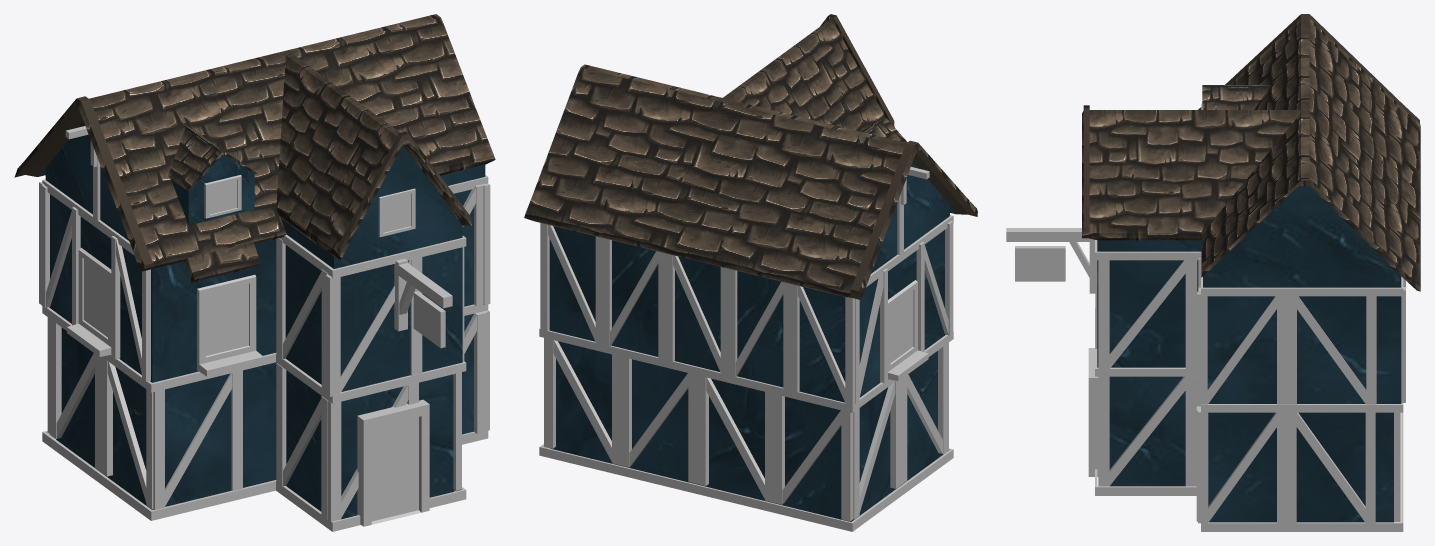
The model's file is casa2.fbx.
The picture shows the model from 3 angles, left to right: view 1: azimuth 30°, elevation 25°; view 2: azimuth 150°, elevation 25°; view 3: azimuth 270°, elevation 25°; orthographic projection. The views are drawn at different scales.
Visible parts, largest first — view 1: Cube, Cube.016, Cube.037, Plane.001, Cube.002, Cube.018, Cube.030, Cube.009, Plane.002, Cube.008, Cube.010, Cube.019 (+11 smaller); view 2: Cube, Cube.016, Cube.027, Cube.028, Cube.025, Cube.026, Cube.011, Cube.010, Cube.015, Cube.014, Plane.002, Cube.012 (+5 smaller); view 3: Cube, Cube.016, Cube.021, Cube.031, Cube.024, Cube.023, Cube.033, Cube.034, Cube.035, Cube.003, Cube.002, Cube.037 (+2 smaller).
Part boxes in pixels (box(x1,y1,x2,y2)): Cube: box(14, 14, 495, 519); Cube.016: box(42, 158, 488, 531); Cube.037: box(357, 399, 429, 526); Plane.001: box(197, 274, 263, 376); Cube.002: box(168, 125, 257, 225); Cube.018: box(153, 370, 242, 509); Cube.030: box(325, 257, 422, 396); Cube.009: box(101, 357, 153, 509); Plane.002: box(67, 247, 111, 356); Cube.008: box(111, 236, 150, 381); Cube.010: box(50, 319, 101, 472); Cube.019: box(276, 363, 327, 519); Cube: box(524, 14, 977, 521); Cube.016: box(539, 195, 953, 531); Cube.027: box(774, 394, 853, 521); Cube.028: box(697, 375, 773, 502); Cube.025: box(544, 338, 620, 465); Cube.026: box(621, 356, 697, 483); Cube.011: box(790, 284, 855, 405); Cube.010: box(853, 379, 901, 519); Cube.015: box(540, 223, 602, 344); Cube.014: box(665, 253, 727, 375); Plane.002: box(888, 280, 928, 381); Cube.012: box(728, 268, 790, 390); Cube: box(1082, 14, 1420, 522); Cube.016: box(1095, 240, 1403, 531); Cube.021: box(1098, 376, 1196, 486); Cube.031: box(1098, 260, 1197, 368); Cube.024: box(1286, 412, 1375, 523); Cube.023: box(1198, 409, 1286, 523); Cube.033: box(1286, 296, 1376, 404); Cube.034: box(1197, 291, 1286, 405); Cube.035: box(1015, 246, 1065, 281); Cube.003: box(1006, 228, 1095, 293); Cube.002: box(1202, 85, 1270, 109); Cube.037: box(1088, 348, 1098, 476).
Bounding box in the file's own units: 565 × 558 × 584.
